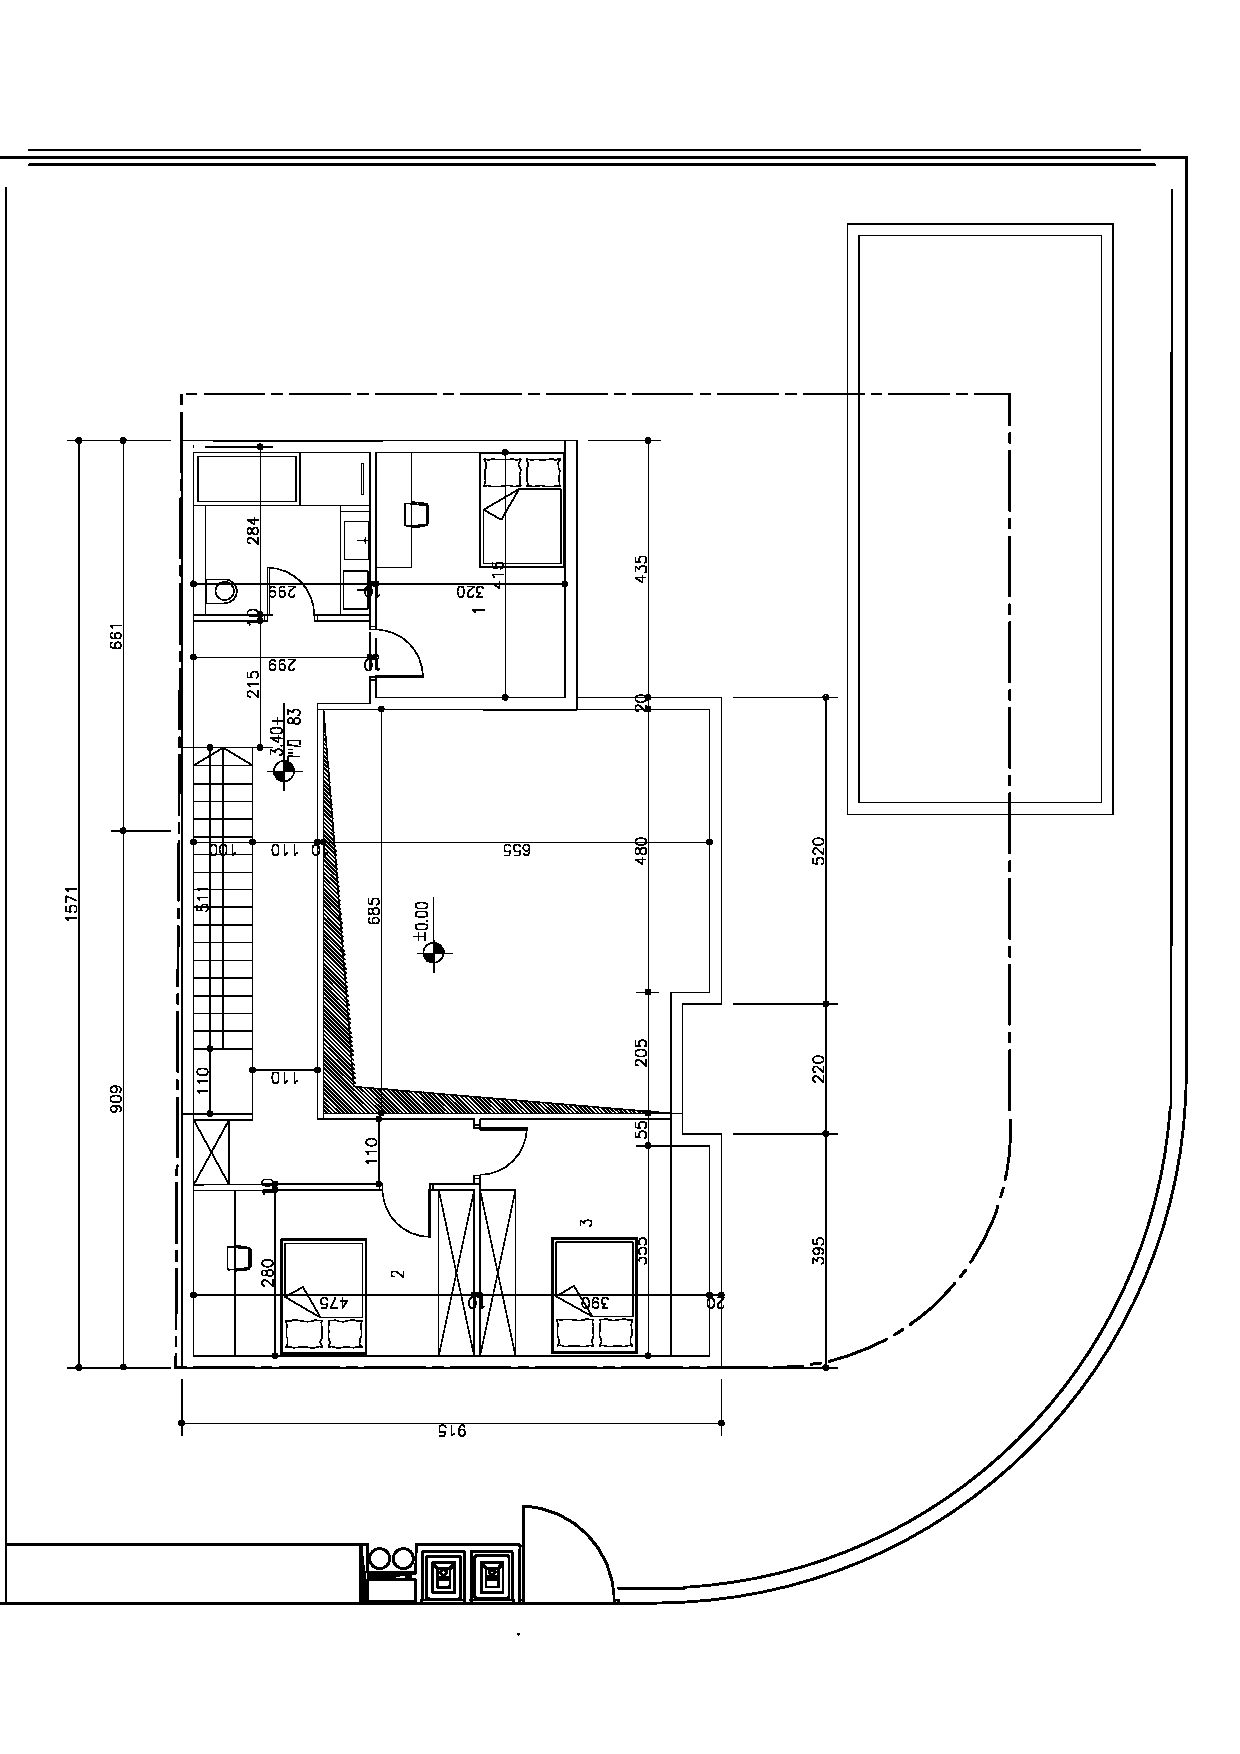door: (521, 1484, 616, 1602), (484, 1122, 534, 1180), (384, 1193, 433, 1249), (382, 627, 431, 684)
